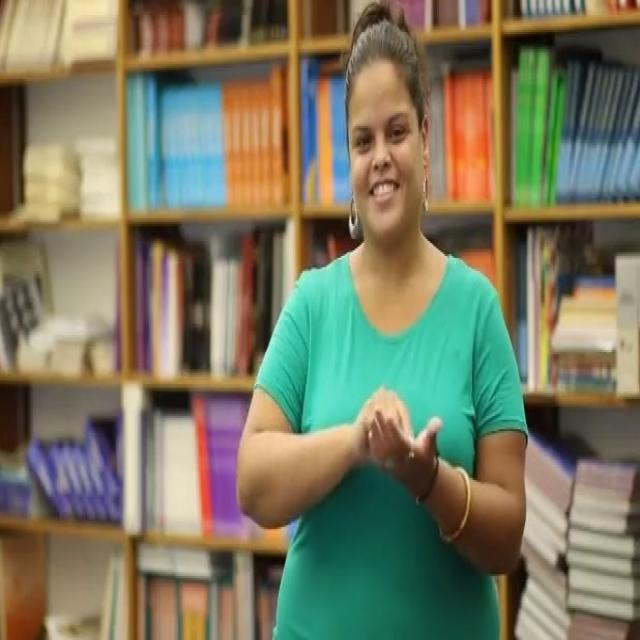chicken: (316, 370, 459, 506)
